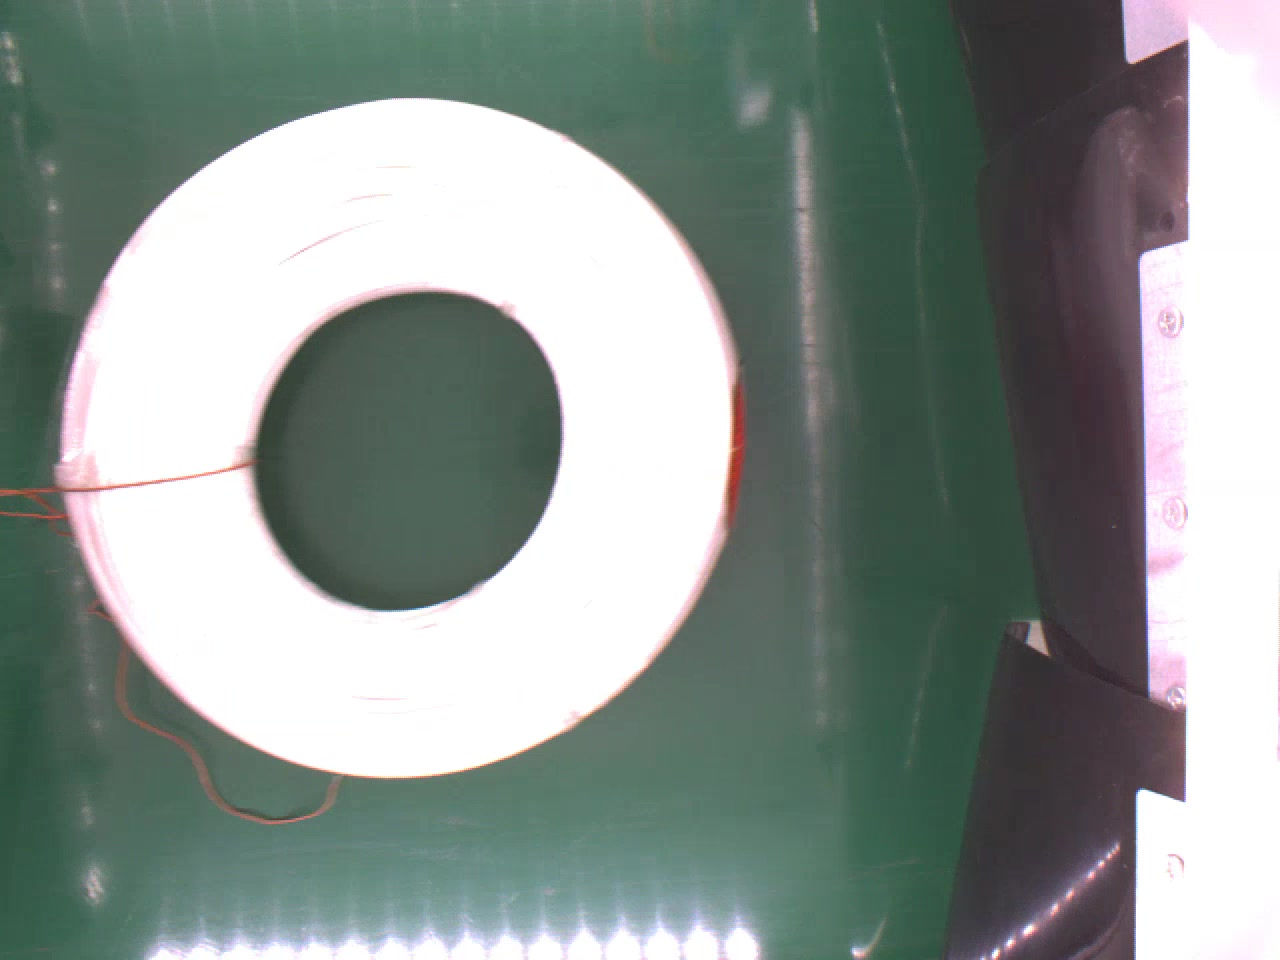white: (51, 94, 750, 782)
